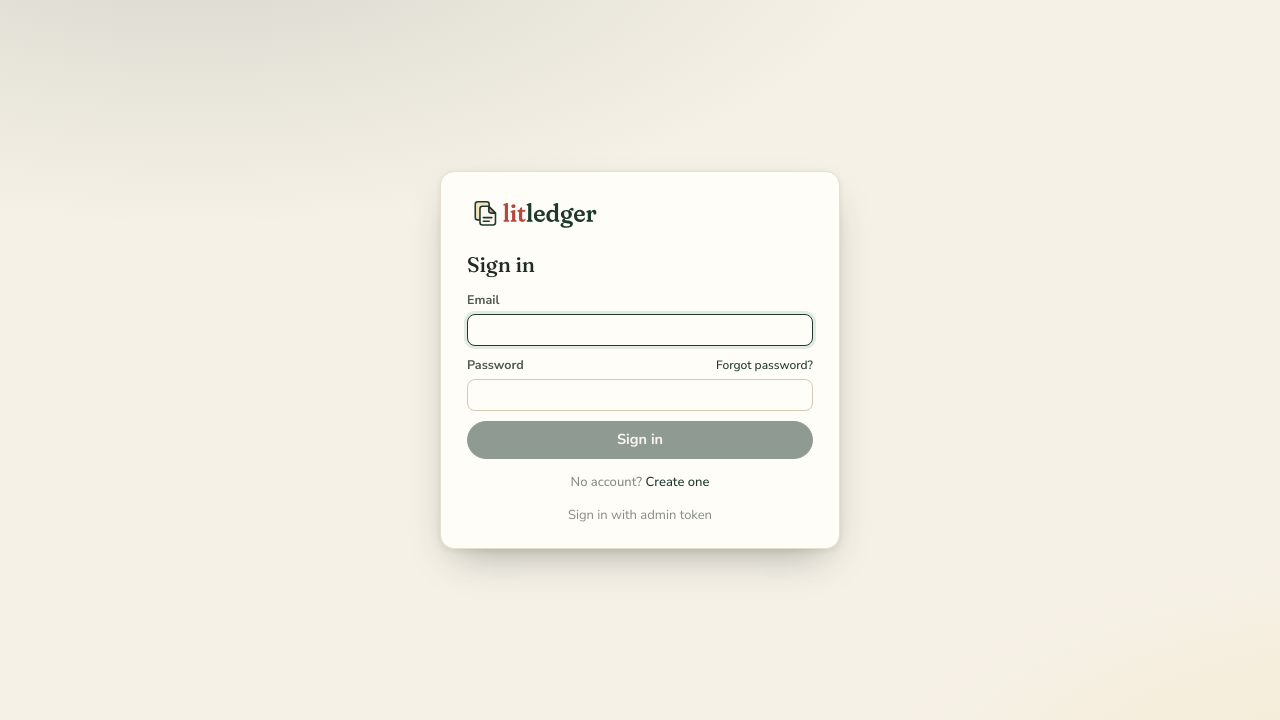
sign-in errors › says when sign-in is rate limited
Type "ada@example.com" into the field labelled "Email". click: (640, 330)
box: [467,314,813,346]
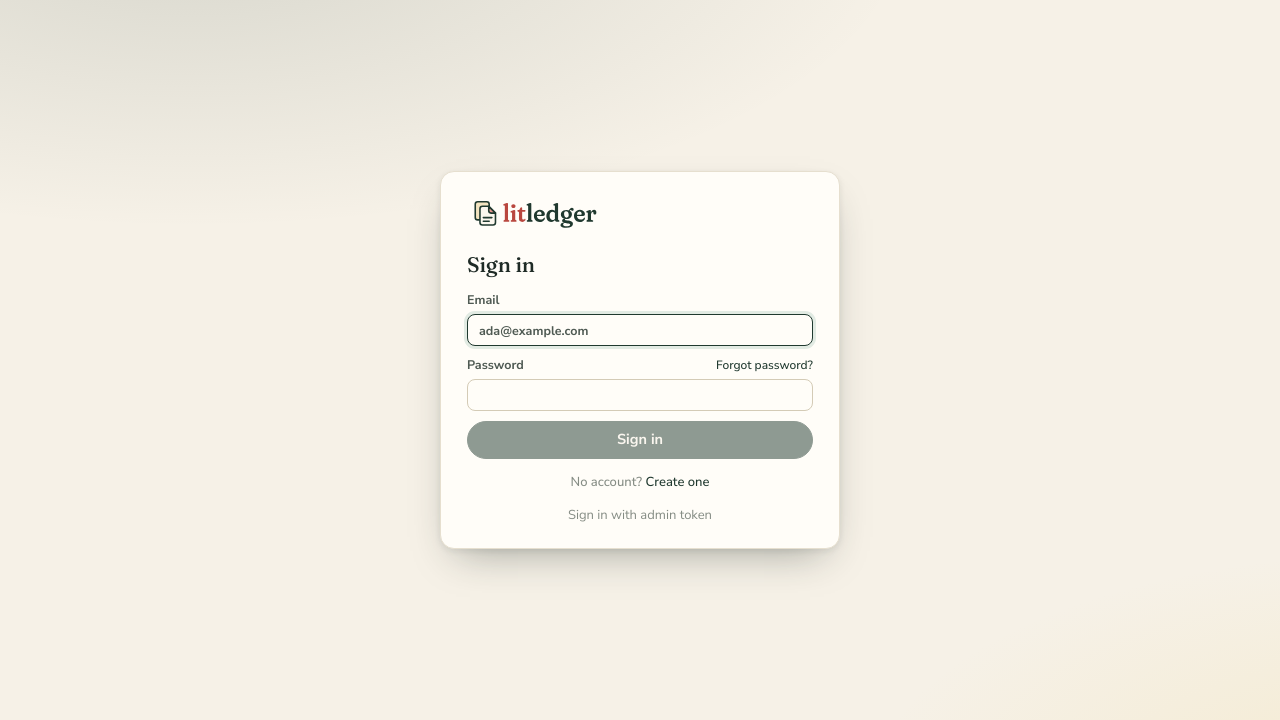
Type "not the password" into the password field labelled "Password". click: (640, 395)
box: [467,379,813,411]
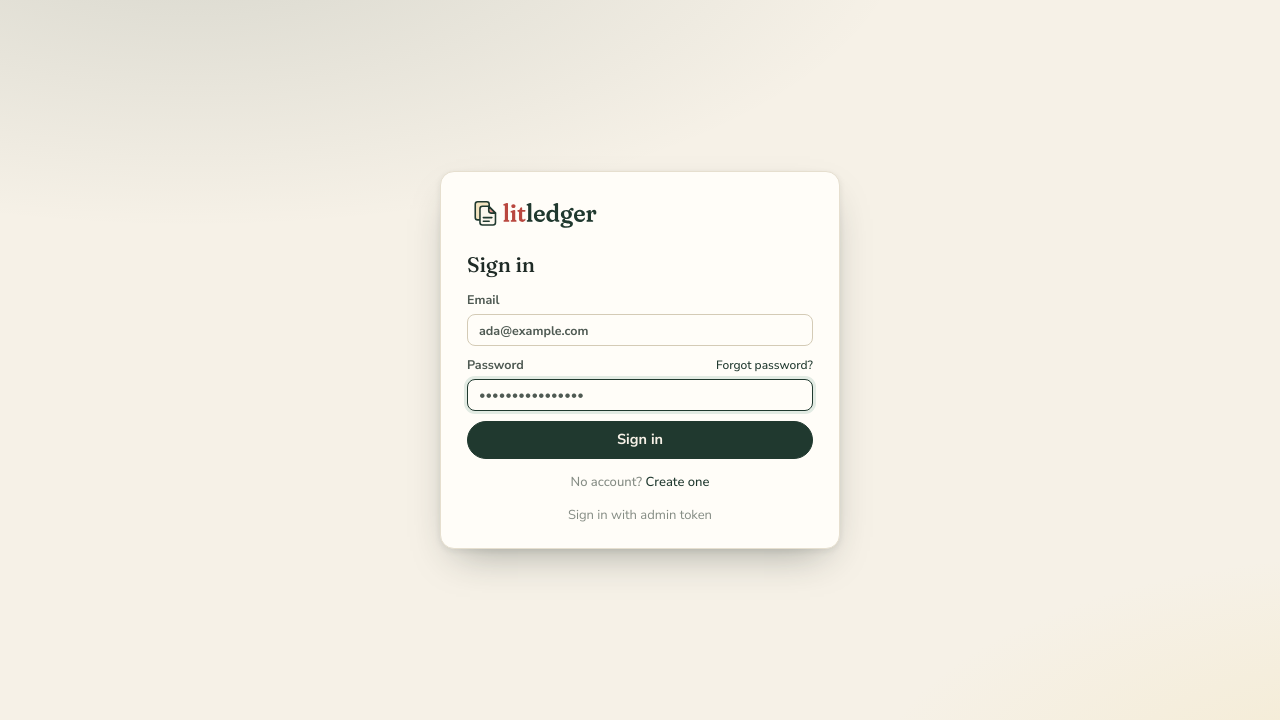
Click the button "Sign in". click: click(640, 440)
box: [467,421,813,459]
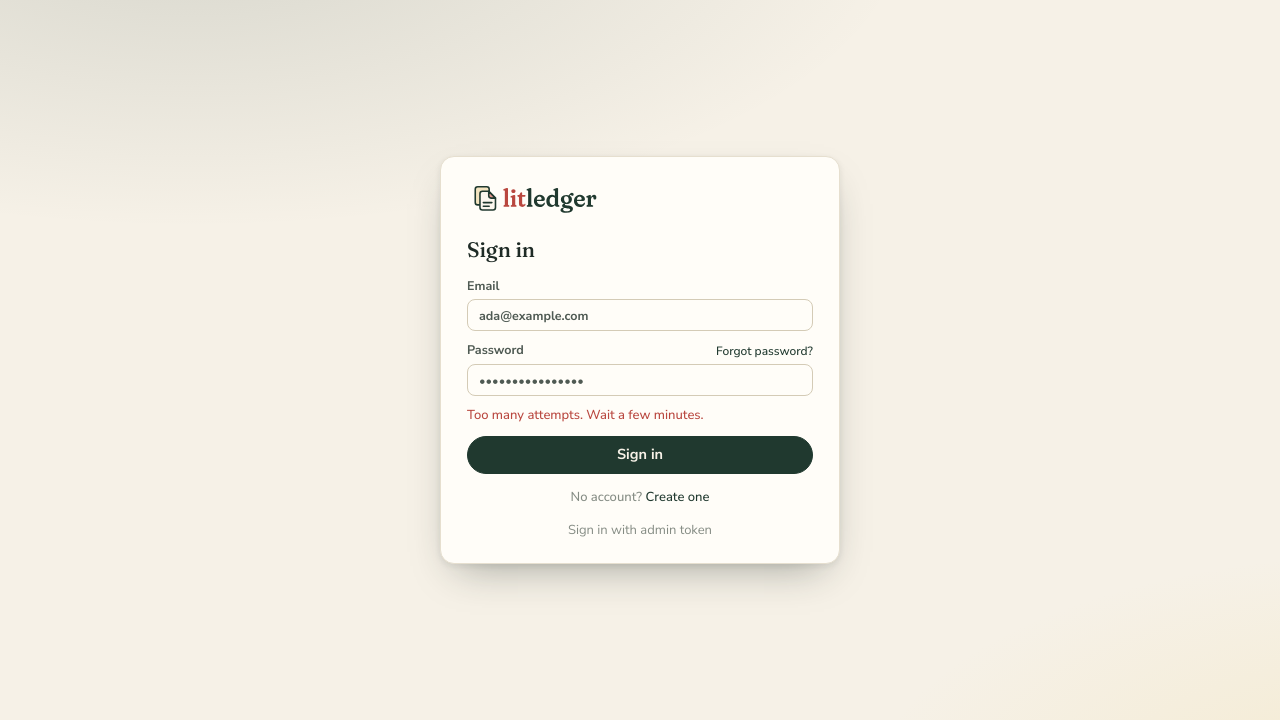
Check: the message reads "Too many attempts. Wait a few minutes.", box [467,406,704,424]
